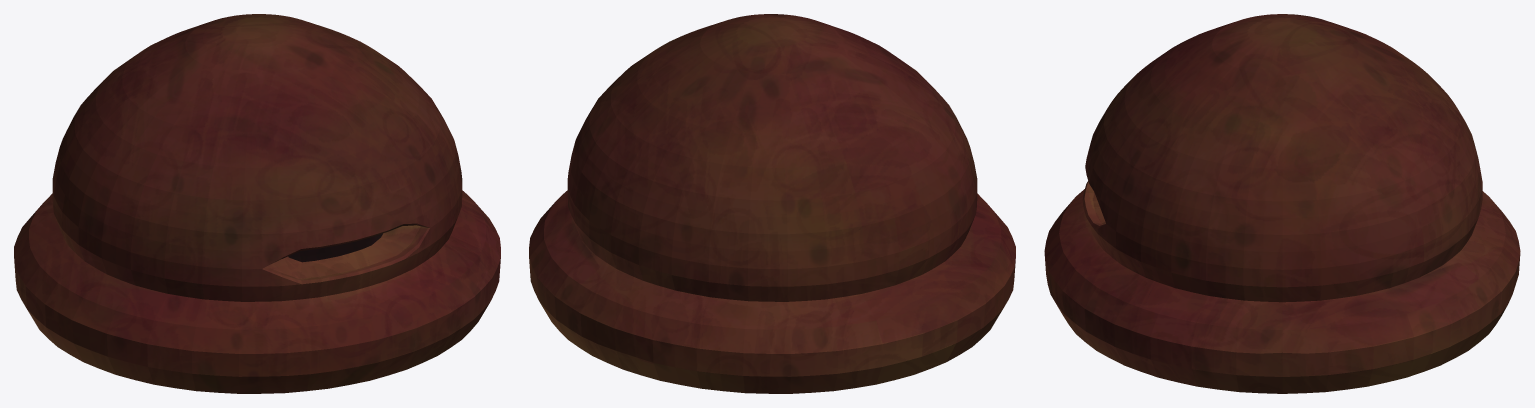
File: blob3.glb
3 views of the same model, side by side, from view 1: azimuth 30°, elevation 25°; view 2: azimuth 150°, elevation 25°; view 3: azimuth 270°, elevation 25° (orthographic).
Visible parts, largest first — view 1: Sphere; view 2: Sphere; view 3: Sphere.
Part boxes in pixels (x1,y1,x2,y2): Sphere: (14, 14, 500, 393); Sphere: (529, 14, 1015, 393); Sphere: (1044, 14, 1520, 393).
Size of the model in its own units: 0.8791 by 0.5315 by 0.8576.
Materials: 1 (1 with a texture image).
